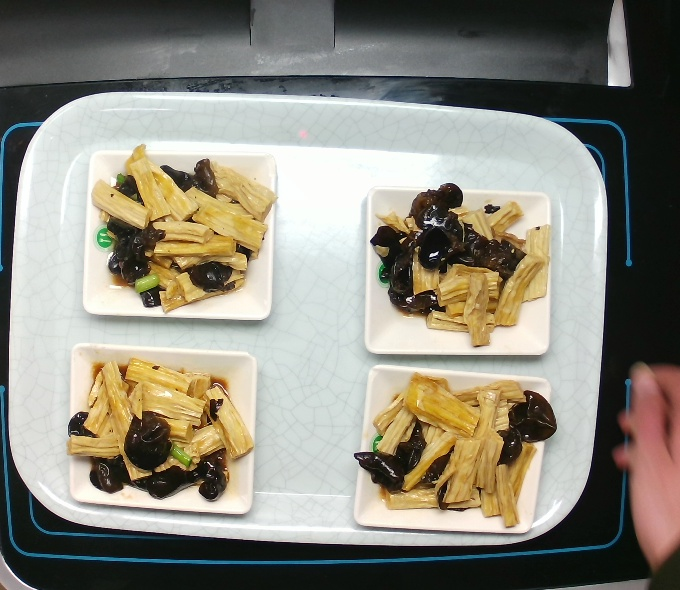wcq-MuErFuZhu: (346, 363, 555, 530), (89, 141, 277, 318), (365, 176, 550, 350), (64, 350, 257, 507)
